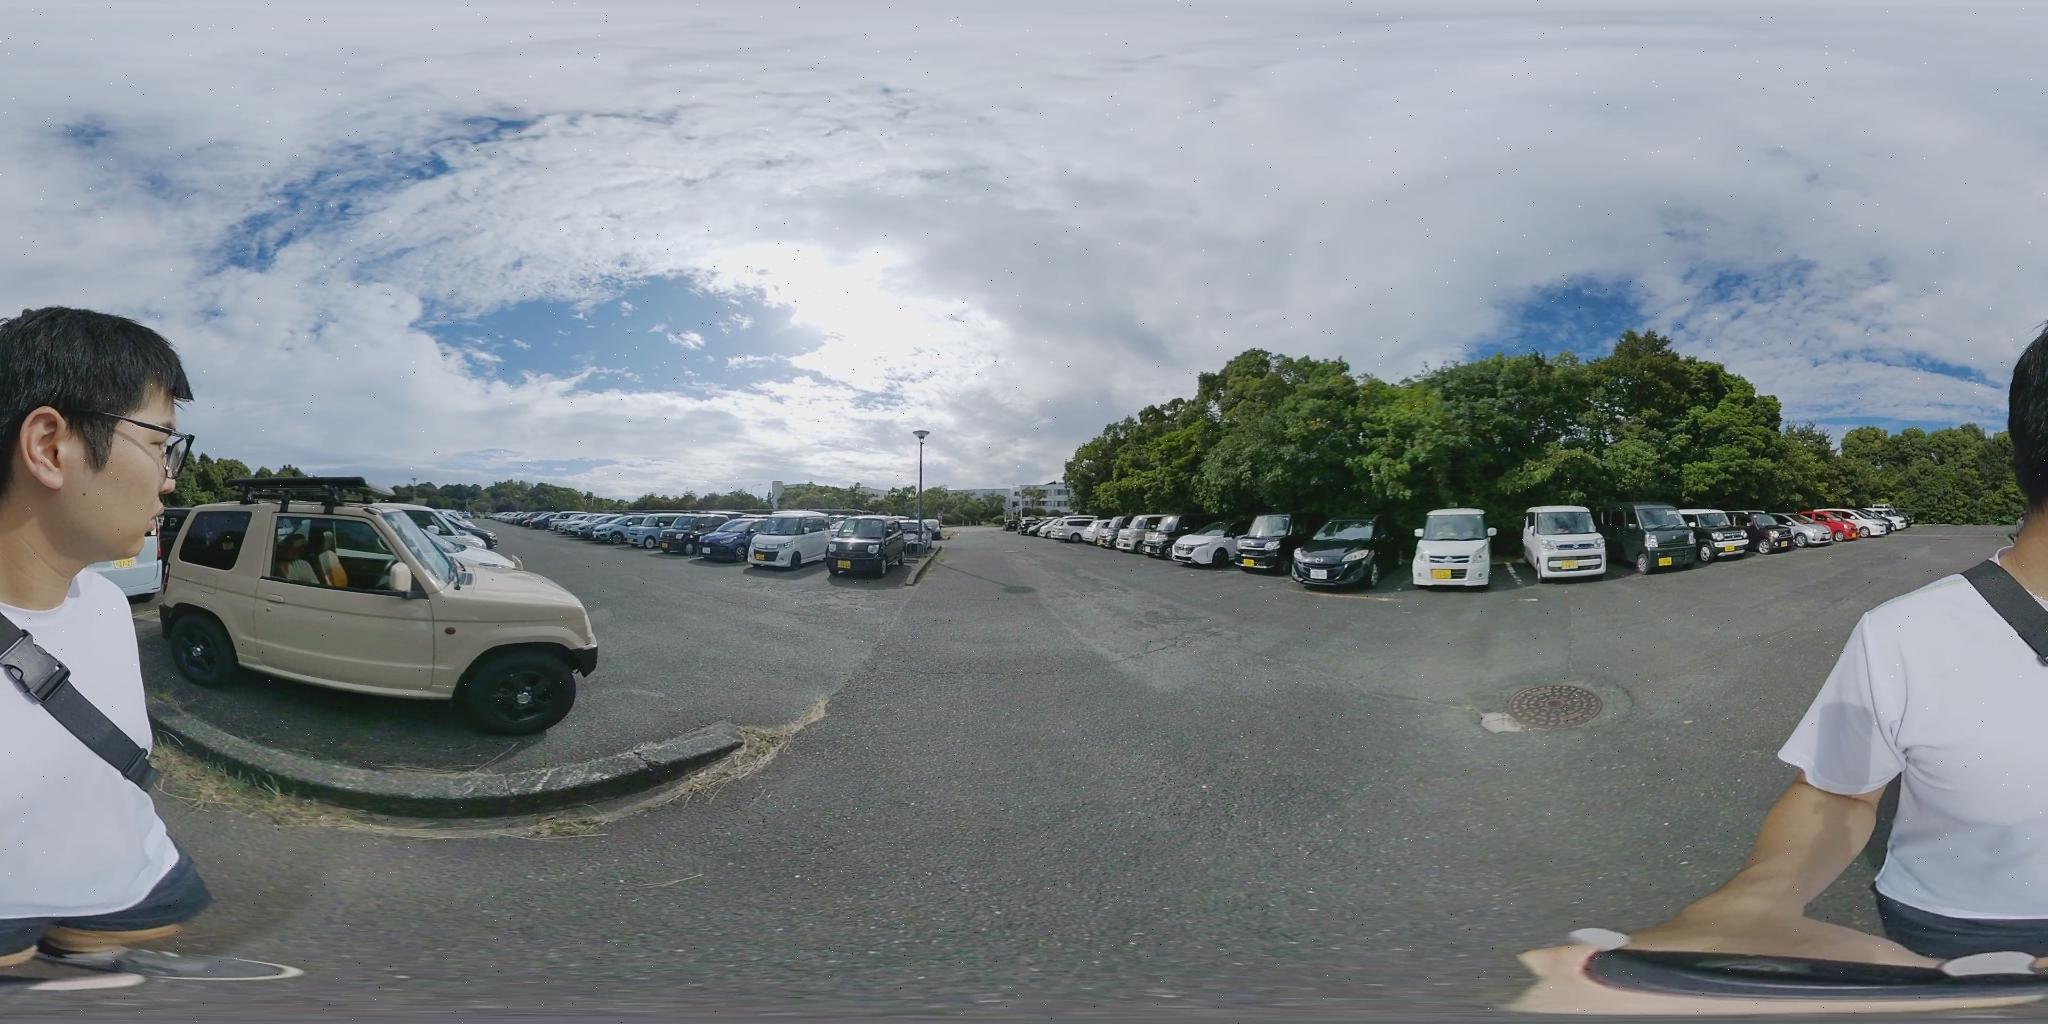car: (165, 505, 584, 729), (820, 515, 936, 577), (1518, 507, 1610, 581), (1178, 516, 1302, 569), (1290, 519, 1384, 589), (730, 513, 836, 569), (1416, 511, 1494, 584), (1634, 508, 1715, 572), (691, 517, 765, 559), (1742, 516, 1819, 552), (1816, 511, 1903, 542), (1796, 512, 1873, 546), (639, 517, 709, 552), (592, 519, 666, 549), (1131, 517, 1183, 552), (1051, 519, 1117, 546), (1852, 512, 1908, 538), (551, 515, 597, 539)
